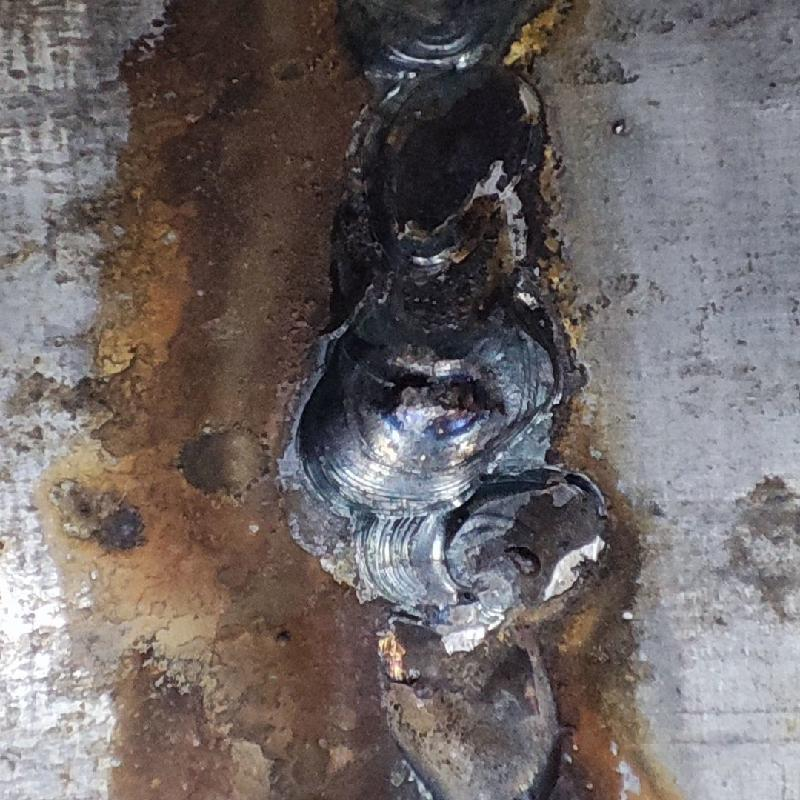Not_fully_soldered: (362, 510, 568, 795)
wrong_size: (306, 4, 559, 491)
